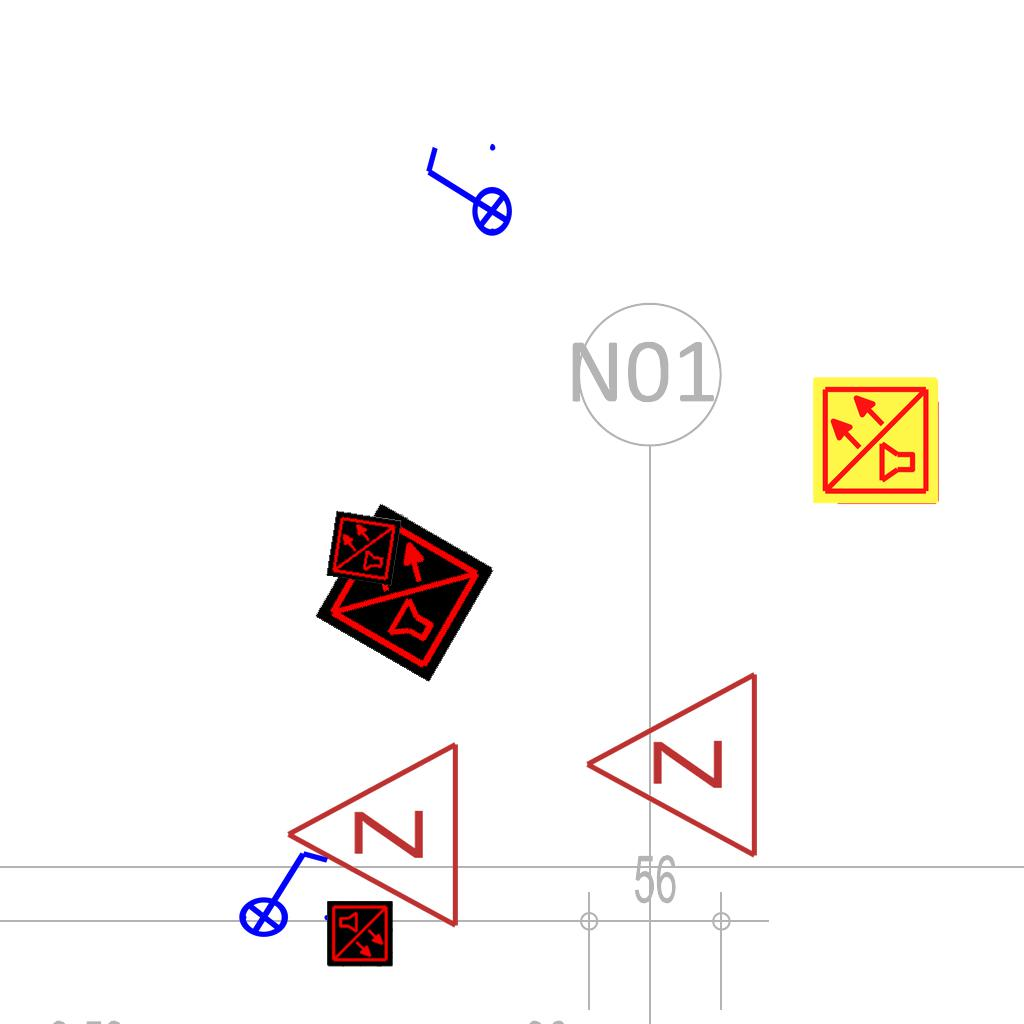Ausschalter_beleuchtet: (418, 138, 514, 250), (225, 843, 337, 939)
OKW_Multisensormelder_(Kombination_optischer_Rauch-Kahlenmonoxid_Waerme-Melder): (314, 501, 496, 683), (810, 374, 942, 506), (326, 510, 402, 586), (327, 901, 393, 967)
Zimmersignalleuchte: (572, 669, 772, 865), (273, 739, 473, 935)
